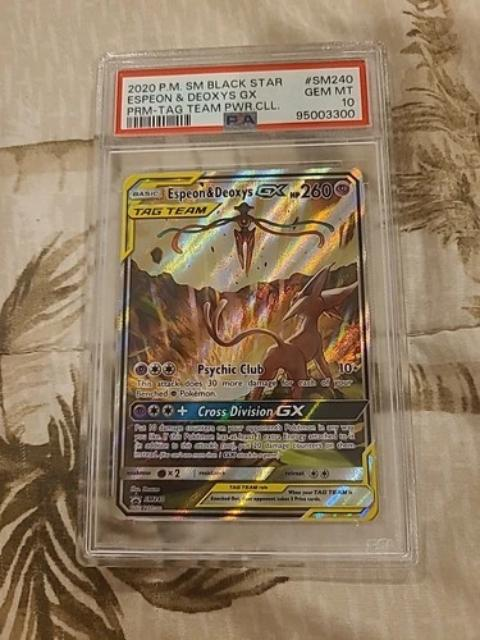Card: (108, 160, 384, 528)
Name: (161, 181, 295, 205)
